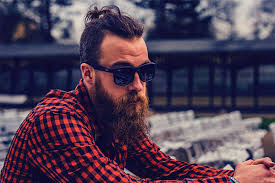b.y: (115, 92, 150, 140)
